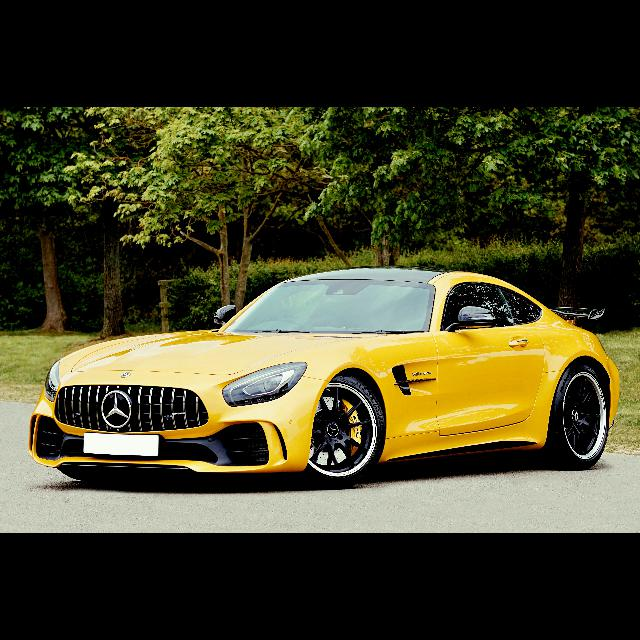cars: (22, 246, 624, 496)
